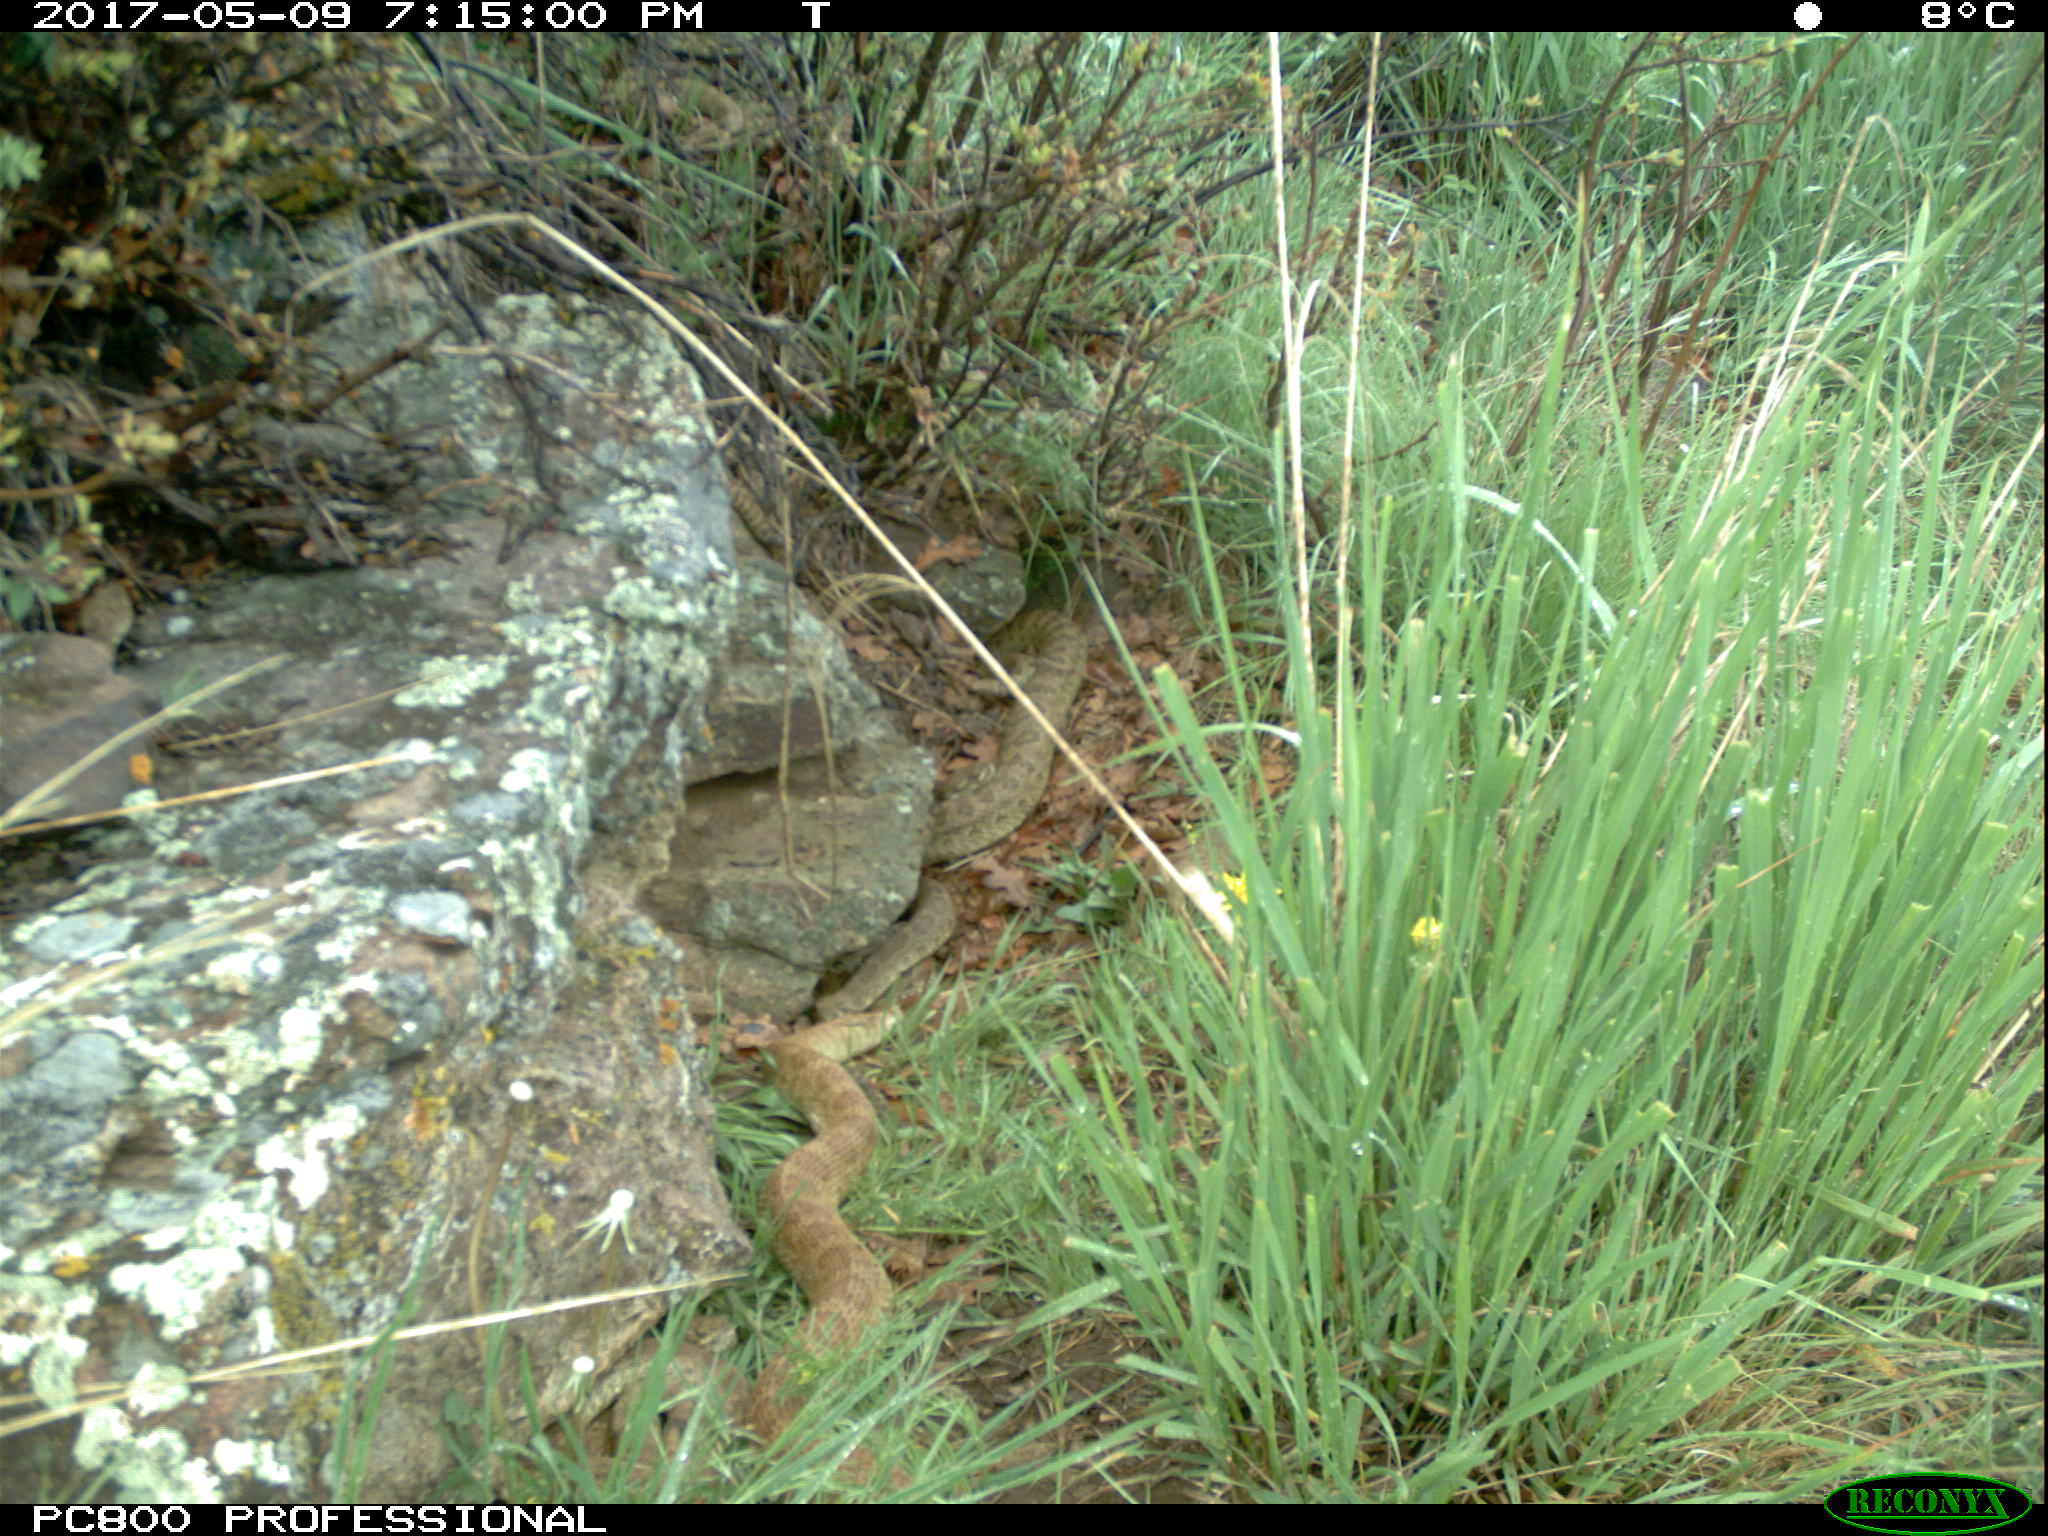snake: (751, 1004, 903, 1496), (956, 599, 1089, 849), (555, 1312, 743, 1478), (830, 870, 959, 1013)
